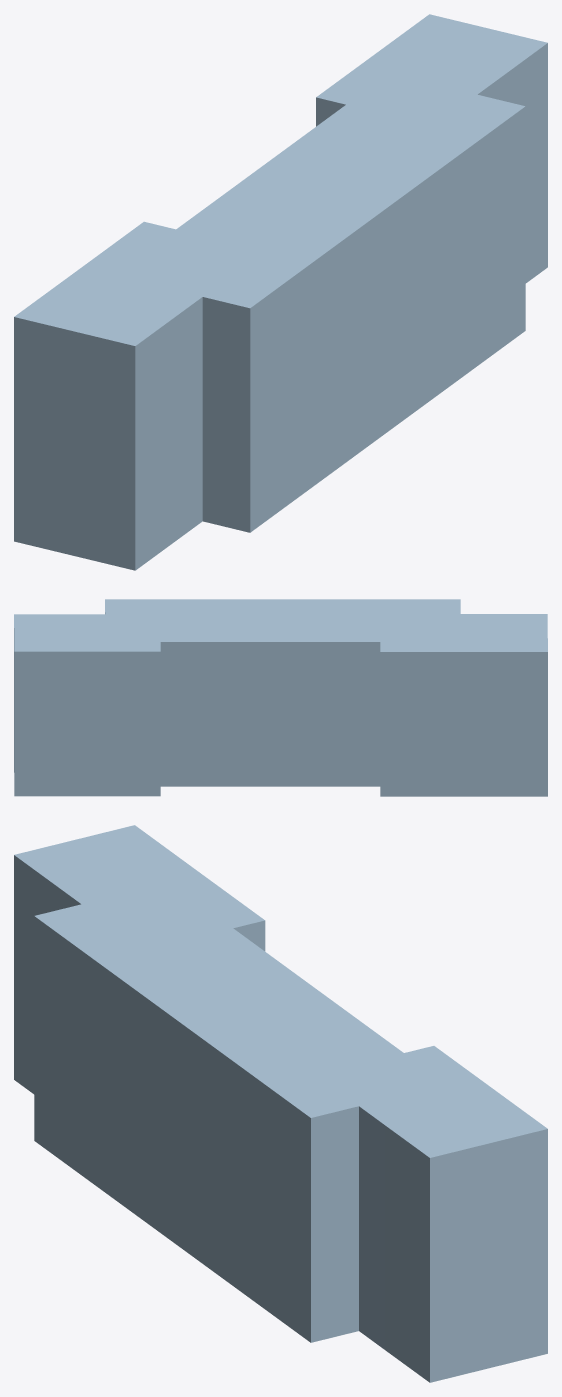
File: osm_way_225242507.glb
3 renders of one model, top to bottom at view 1: azimuth 30°, elevation 25°; view 2: azimuth 150°, elevation 25°; view 3: azimuth 270°, elevation 25°, orthographic. The views are drawn at different scales.
Visible parts, largest first — view 1: osm_way_225242507; view 2: osm_way_225242507; view 3: osm_way_225242507.
Boxes of the visible parts, x1,y1,x2,y2 form: osm_way_225242507: [14, 14, 547, 570]; osm_way_225242507: [14, 599, 547, 796]; osm_way_225242507: [14, 825, 547, 1382].
Size of the model in its own units: 60.97 by 19.2 by 41.32.
